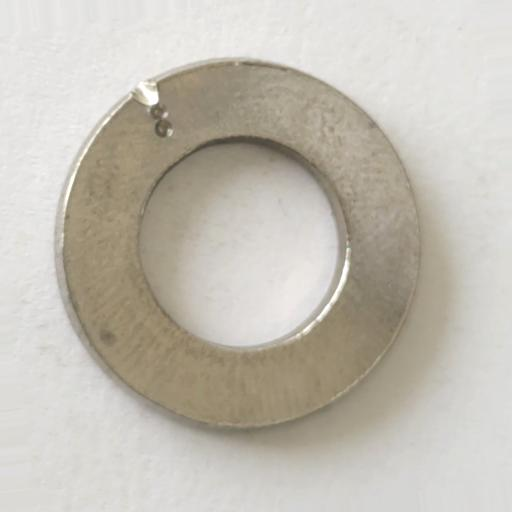circular_cavity: (130, 79, 159, 107), (150, 103, 170, 122), (155, 119, 172, 137)
